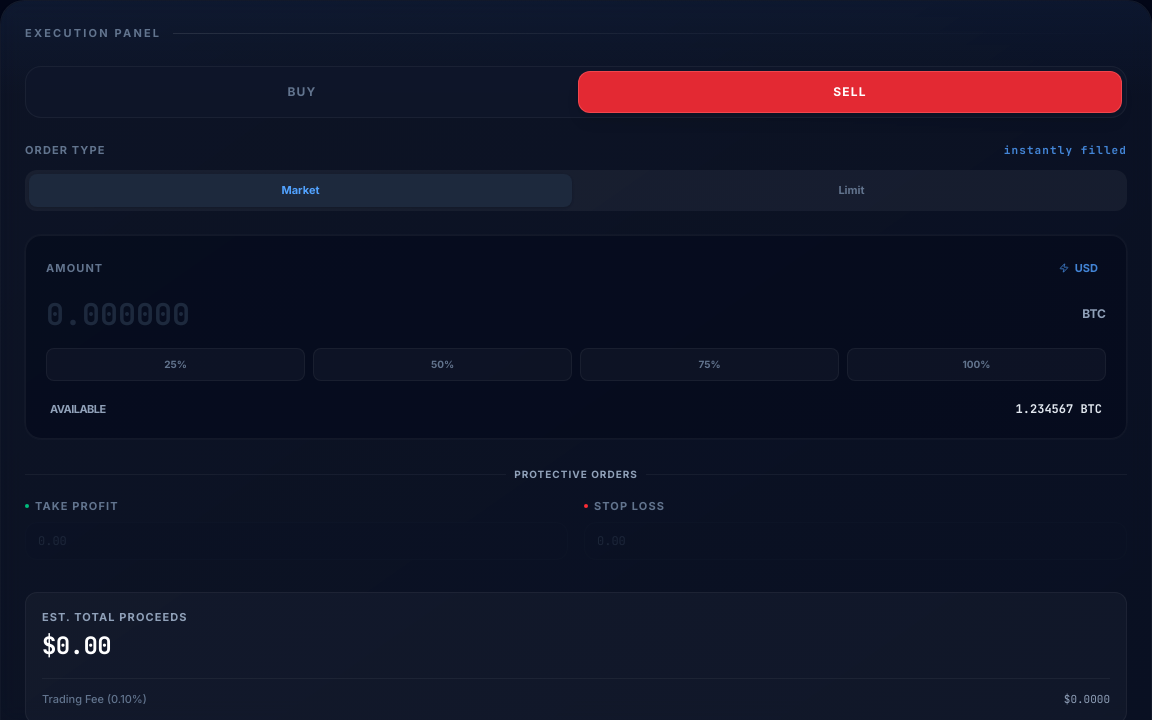
Scenario: TradePanel quick presets › truncates SELL 100% amount presets instead of rounding them up
Click the button "100%" at x=976, y=364, box top-left (847, 348), bottom-right (1106, 381)
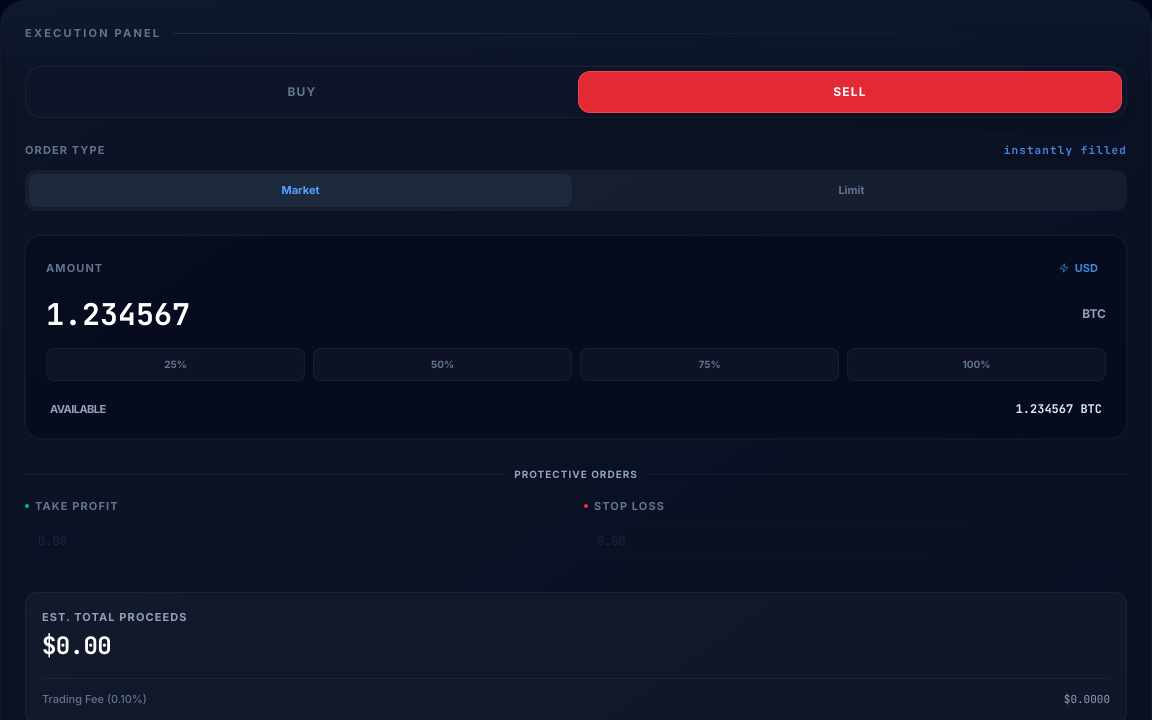
expect the text "1.234567 BTC" is shown: met, box top-left (1016, 401), bottom-right (1102, 417)
expect the number field named "Trade amount input" holds "1.234567": met, box top-left (46, 296), bottom-right (1106, 332)
